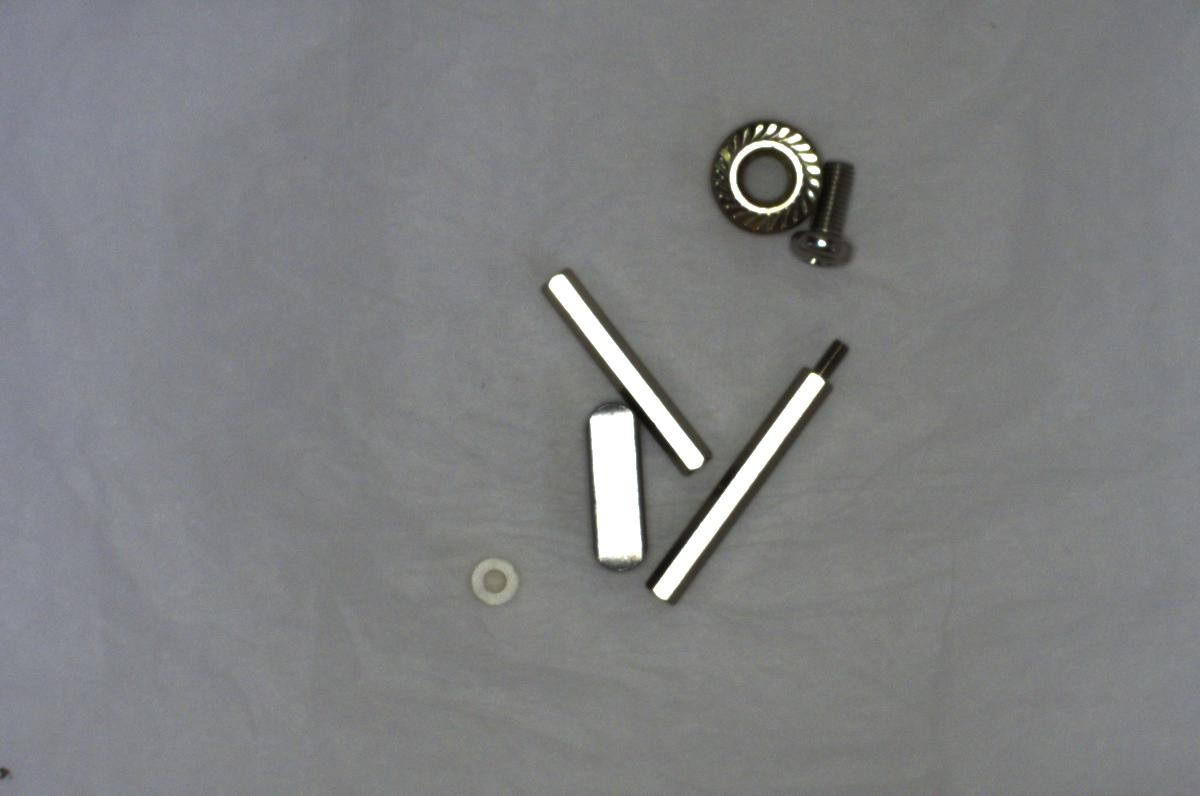Double hexagonal column: (535, 264, 712, 476)
Flange nut: (702, 109, 823, 240)
Hexagonal steel column: (642, 332, 852, 618)
Keybar: (573, 398, 653, 581)
Plastic cushion pillar: (465, 541, 523, 610)
Round head screw: (788, 153, 865, 265)
